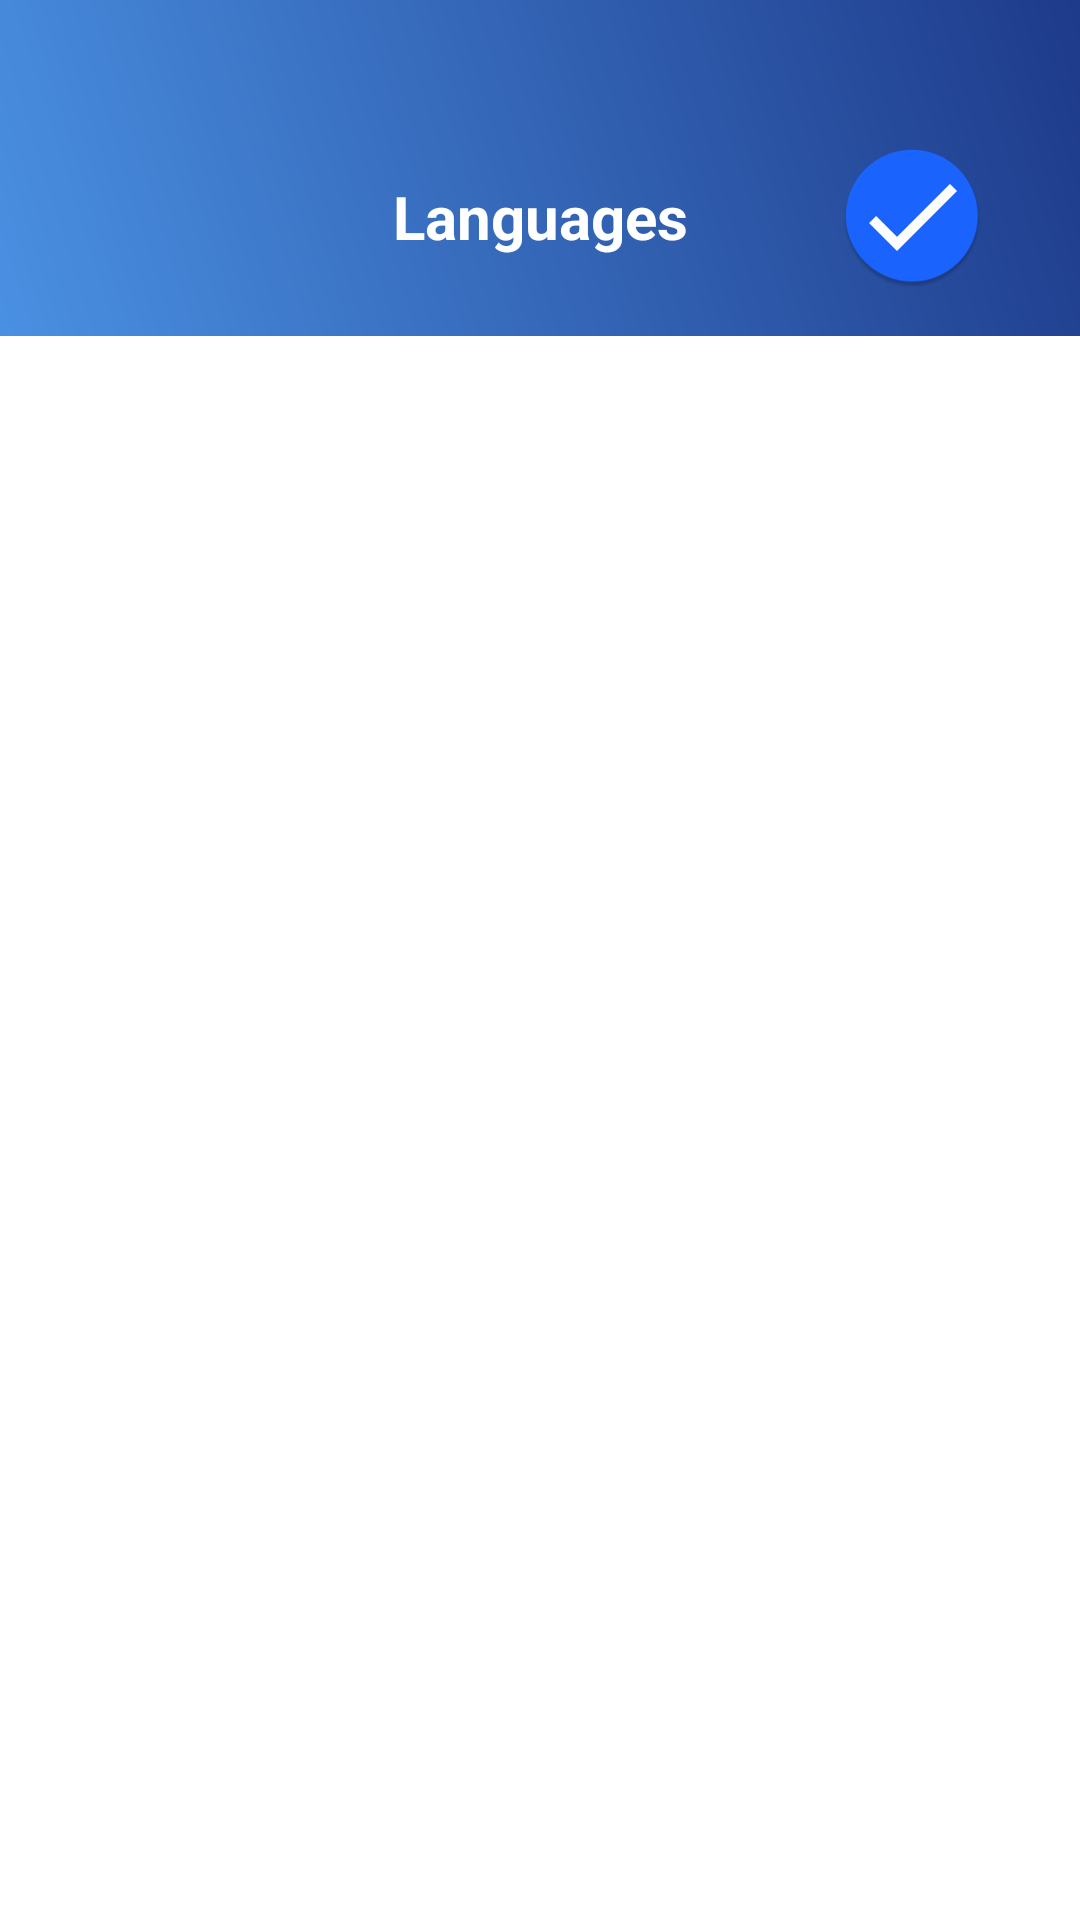

Icon bounding boxes for this 1080*1920 phone screenshot, format [x1=x1, y1=y1, x2=x2, y2=y2]:
check: [x1=846, y1=150, x2=978, y2=283]
